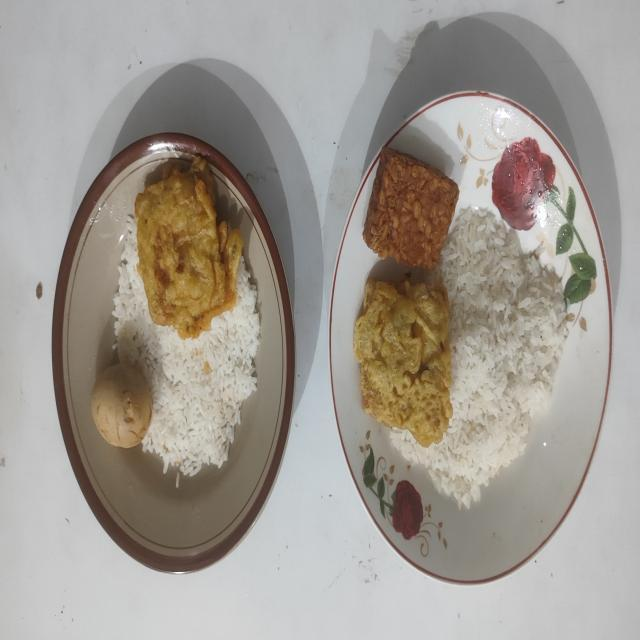nasi_putih: (390, 208, 569, 507), (112, 218, 260, 476)
tempe_goreng: (363, 148, 459, 269)
